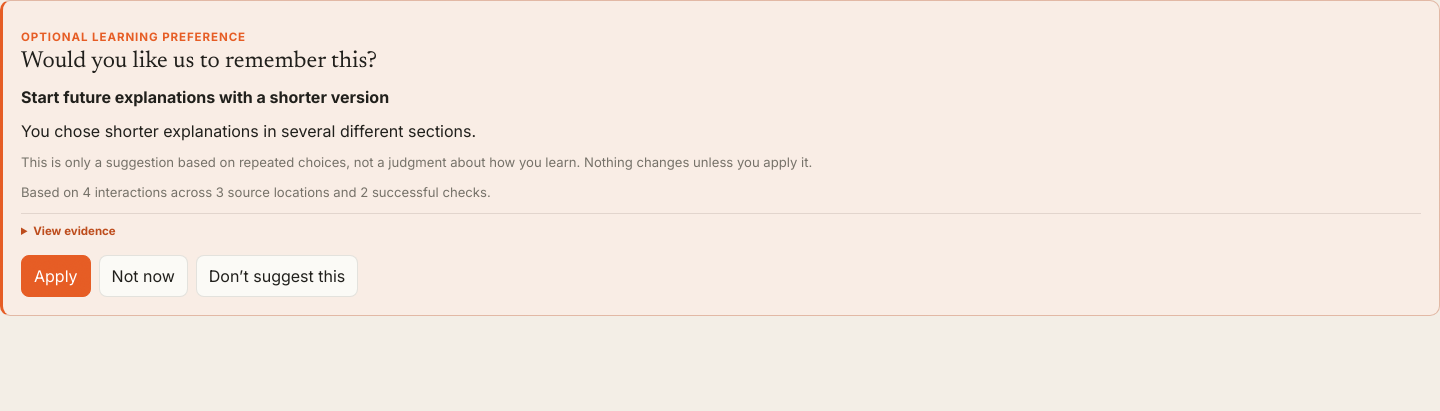
Test: PreferenceSuggestionCard › lets the student inspect the evidence behind the suggestion
Click the heading "View evidence" at {"x": 68, "y": 231}, box x1=21 y1=223 x2=116 y2=240
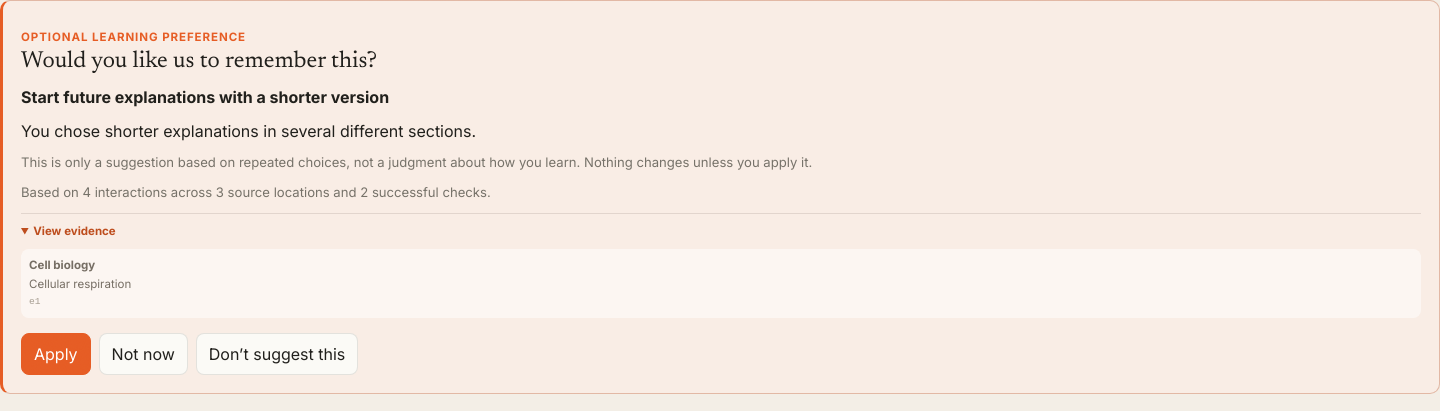
Expected: the text "Cell biology" is shown, x1=29 y1=258 x2=95 y2=272
Expected: the text "Cellular respiration" is shown, x1=29 y1=277 x2=131 y2=291
Expected: the text "e1" is shown, x1=29 y1=296 x2=40 y2=307
